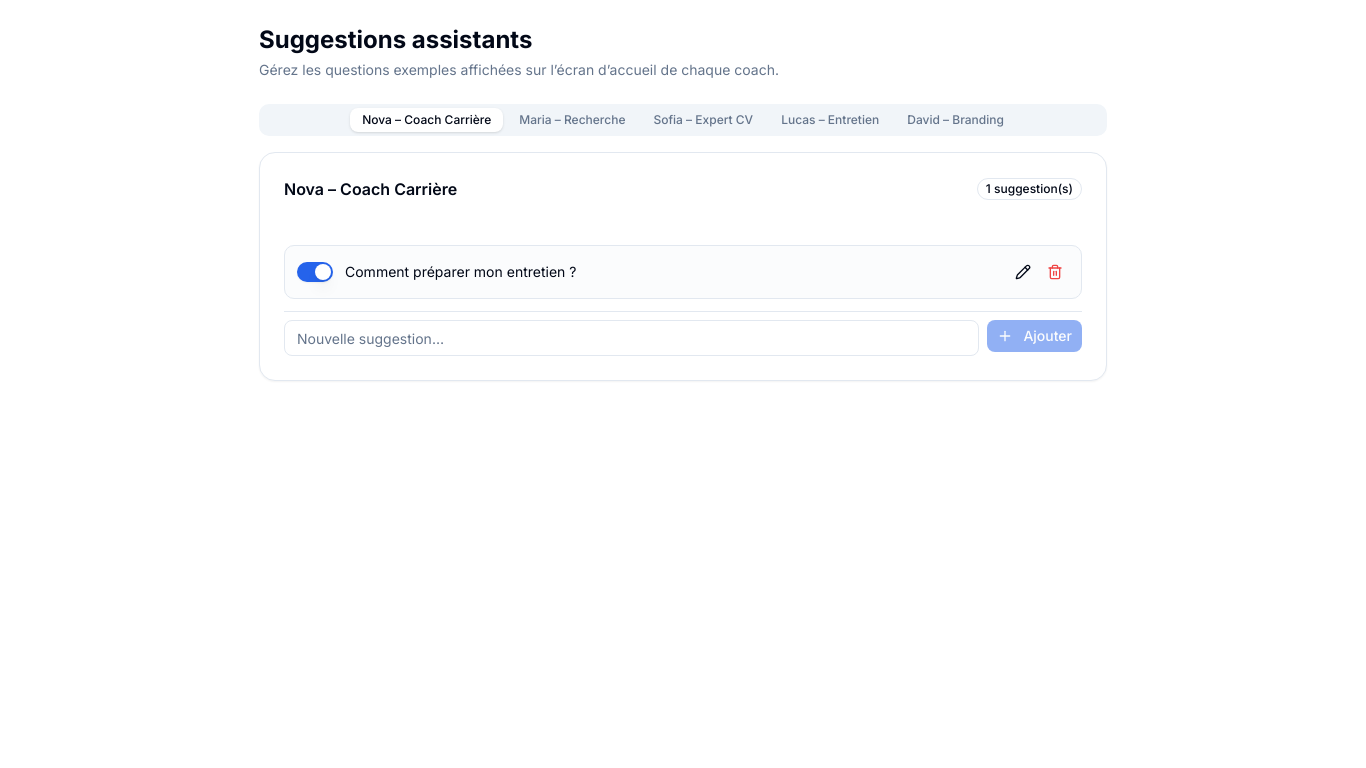
Test: SuggestionsAdminPage › nomme les actions et demande une confirmation intégrée avant suppression
The image size is (1366, 768).
Expected: the text "Comment préparer mon entretien ?" is shown, [345, 263, 576, 280]
Expected: the button named "Modifier la suggestion" is shown, [1009, 258, 1037, 286]
Click the button named "Supprimer la suggestion" at (1055, 272), box [1041, 258, 1069, 286]
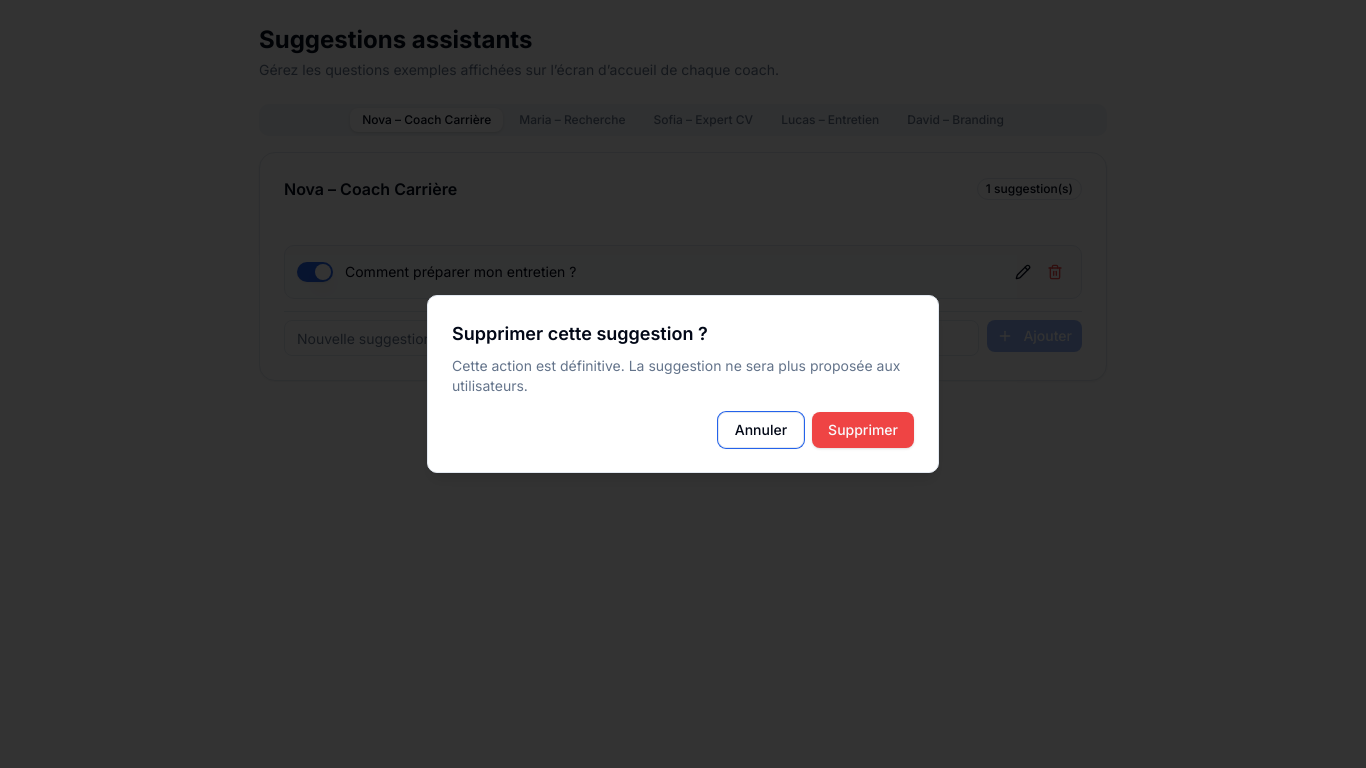
Now the dialog is shown, box [427, 295, 939, 473]
Now the button with aria-label "Confirmer la suppression" is shown, box [812, 412, 914, 448]
